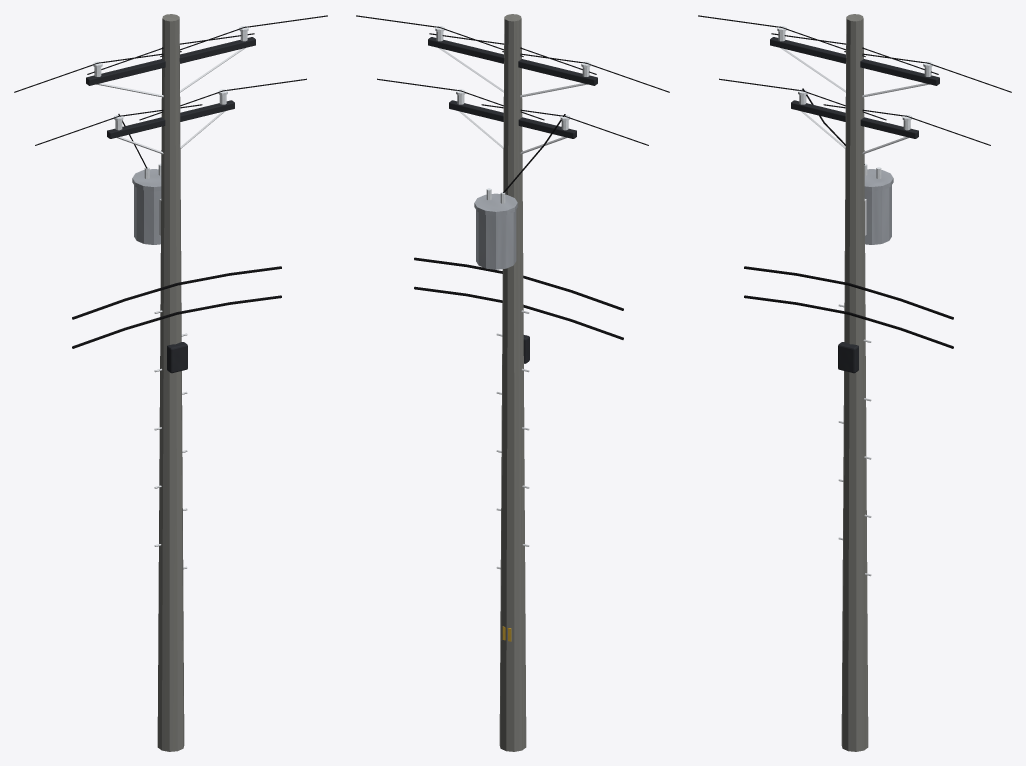
Rendered from UtilityPole.glb.
3 views of the same model, side by side, from view 1: azimuth 30°, elevation 25°; view 2: azimuth 150°, elevation 25°; view 3: azimuth 330°, elevation 25° (orthographic).
Visible parts, largest first — view 1: Pole, Arms, Transformer; view 2: Pole, Arms, Transformer; view 3: Pole, Arms, Transformer.
Part boxes in pixels (x1,y1,x2,y2): Pole: (154, 14, 187, 751); Arms: (14, 15, 327, 154); Transformer: (72, 114, 281, 373); Pole: (496, 14, 529, 751); Arms: (356, 15, 669, 154); Transformer: (414, 114, 623, 363); Pole: (838, 14, 871, 751); Arms: (698, 15, 1011, 154); Transformer: (744, 88, 953, 373).
Bounding box in the file's own units: 4.5 × 10 × 0.91.
2 materials, 1 textured.
